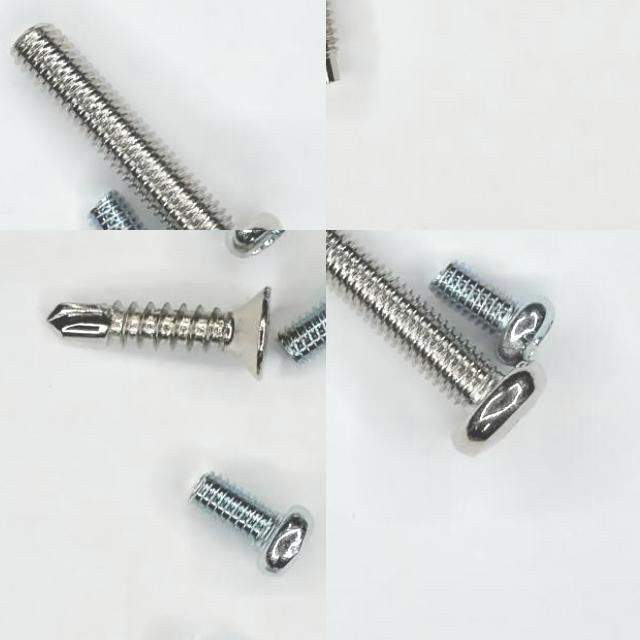Screw: (326, 230, 536, 448), (12, 24, 232, 230), (48, 287, 271, 376), (430, 264, 553, 366), (190, 472, 309, 572), (278, 301, 326, 360), (90, 191, 144, 230)
